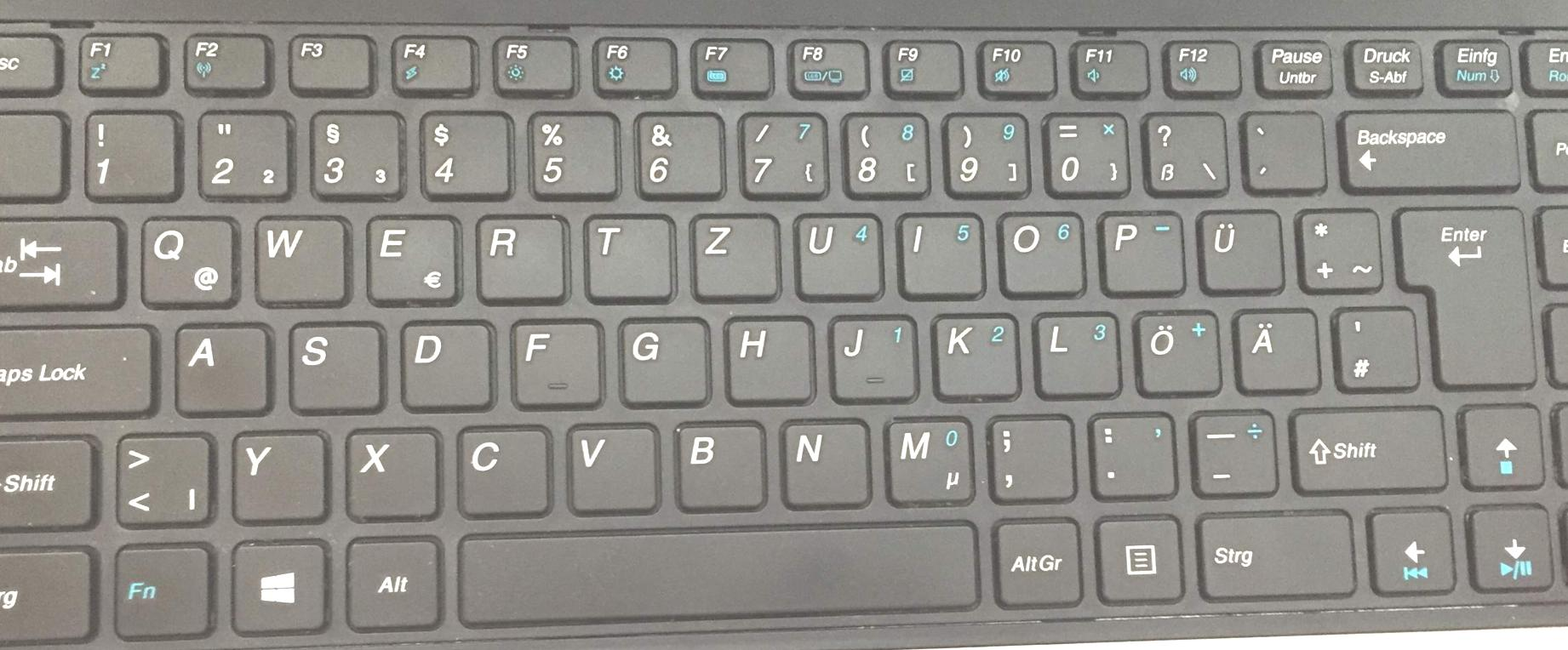0: (1040, 109, 1129, 196)
1: (80, 107, 176, 199)
2: (194, 107, 290, 198)
3: (304, 106, 402, 198)
4: (415, 106, 508, 196)
5: (524, 108, 616, 197)
6: (630, 108, 723, 197)
7: (737, 110, 826, 196)
8: (839, 110, 927, 197)
9: (941, 110, 1027, 197)
a: (170, 319, 267, 413)
accent: (1239, 107, 1324, 191)
ae: (1230, 305, 1318, 390)
alt-left: (341, 533, 440, 629)
altgr-right: (990, 516, 1081, 605)
b: (669, 416, 764, 508)
c: (452, 423, 547, 516)
caret: (1, 107, 61, 197)
comma: (984, 410, 1073, 500)
d: (395, 317, 490, 410)
del: (1336, 105, 1515, 189)
e: (361, 212, 456, 303)
enter: (1392, 201, 1535, 386)
f: (507, 315, 599, 405)
g: (615, 312, 706, 404)
h: (719, 311, 811, 402)
hash: (1331, 303, 1416, 391)
i: (896, 209, 984, 296)
j: (827, 311, 914, 401)
k: (930, 309, 1017, 397)
keyboard: (1, 6, 1568, 650)
l: (1033, 308, 1119, 396)
less: (110, 427, 211, 527)
m: (882, 413, 971, 505)
minus: (1187, 407, 1277, 496)
n: (776, 414, 867, 505)
o: (994, 208, 1083, 296)
oe: (1131, 307, 1219, 395)
p: (1095, 208, 1183, 295)
plus: (1293, 204, 1380, 290)
point: (1084, 409, 1176, 498)
q: (136, 213, 235, 306)
r: (472, 210, 564, 300)
s: (283, 318, 381, 411)
shift-left: (1, 430, 91, 531)
shift-lock: (1, 318, 153, 417)
shift-right: (1285, 401, 1445, 492)
space: (454, 519, 974, 622)
ss: (1138, 107, 1226, 192)
strg-left: (1, 544, 92, 646)
strg-right: (1189, 507, 1353, 599)
t: (581, 211, 672, 299)
tab: (1, 210, 119, 308)
u: (792, 209, 881, 299)
ue: (1193, 205, 1281, 293)
v: (564, 419, 656, 510)
w: (249, 210, 343, 302)
x: (340, 423, 436, 518)
y: (228, 428, 327, 522)
z: (687, 209, 777, 299)
